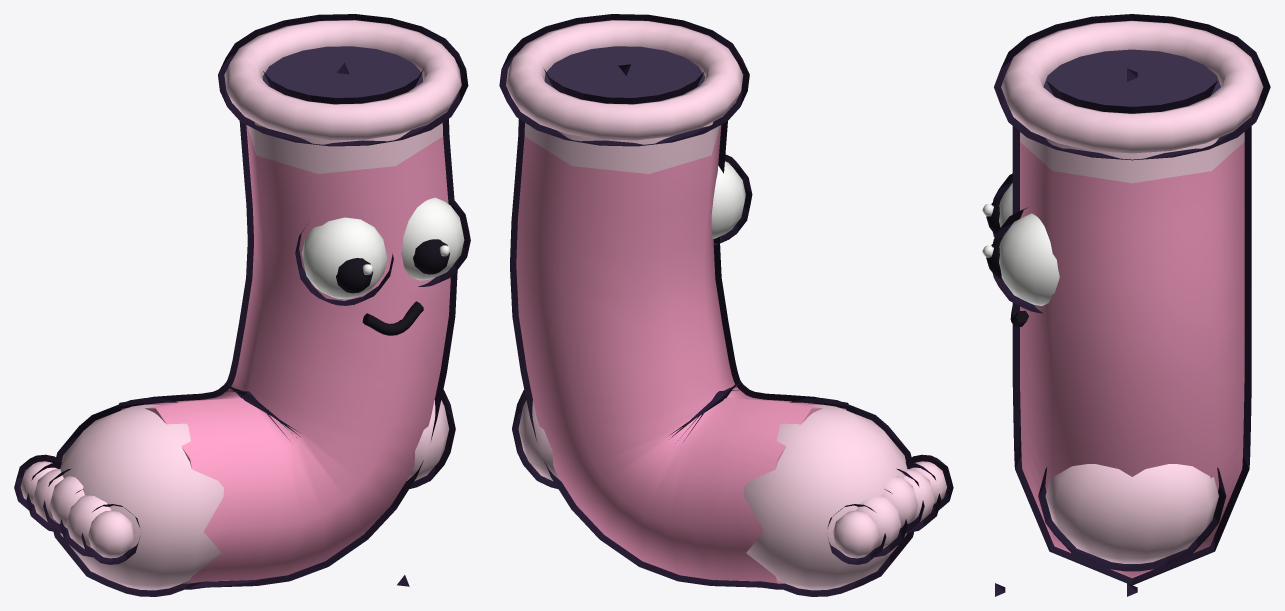
The model's file is ToeToe_L.glb.
3 views of the same model, side by side, from view 1: azimuth 30°, elevation 25°; view 2: azimuth 150°, elevation 25°; view 3: azimuth 270°, elevation 25° (orthographic). The views are drawn at different scales.
Parts seen in each view (by area): view 1: ToeToe_L, ToeToe_L_Outline; view 2: ToeToe_L, ToeToe_L_Outline; view 3: ToeToe_L, ToeToe_L_Outline.
Part boxes in pixels (<box>): ToeToe_L: <box>20,20,464,590</box>; ToeToe_L_Outline: <box>14,14,470,596</box>; ToeToe_L: <box>506,20,946,590</box>; ToeToe_L_Outline: <box>499,14,953,596</box>; ToeToe_L: <box>982,20,1263,578</box>; ToeToe_L_Outline: <box>989,14,1270,585</box>.
Size of the model in its own units: 3.88 by 4.62 by 2.18.
Materials: 1 (1 with a texture image).
